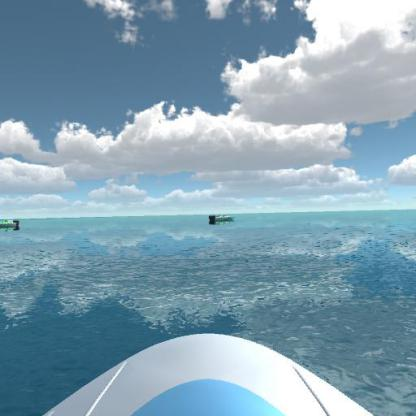usv0: (204, 206, 239, 226), (1, 209, 25, 234)
